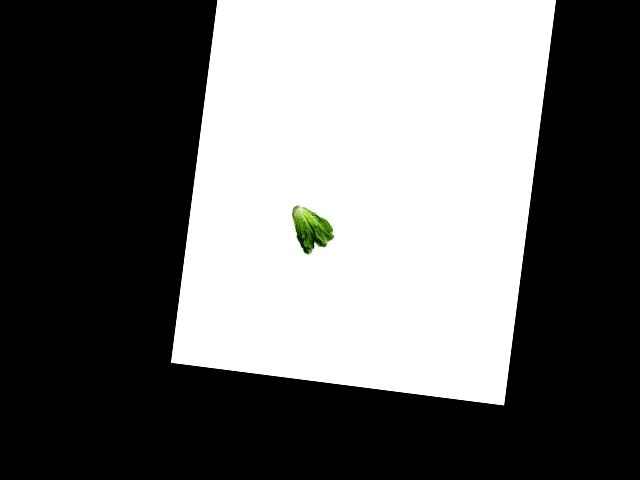lettuce: (286, 203, 343, 257)
